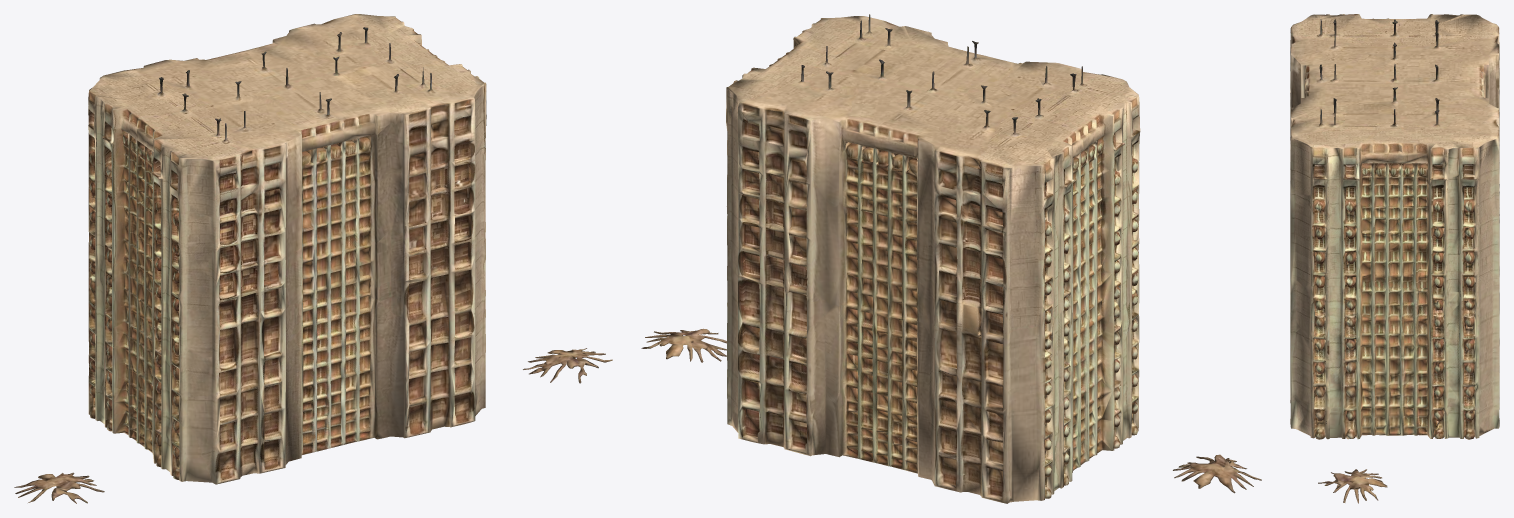
File: bceao.glb
3 renders of one model, left to right at view 1: azimuth 30°, elevation 25°; view 2: azimuth 150°, elevation 25°; view 3: azimuth 270°, elevation 25°, orthographic. The views are drawn at different scales.
Parts seen in each view (by area): view 1: tripo_node_1f12f64e-0354-4c01-a26d-bd178198b87c; view 2: tripo_node_1f12f64e-0354-4c01-a26d-bd178198b87c; view 3: tripo_node_1f12f64e-0354-4c01-a26d-bd178198b87c.
Part boxes in pixels (box(x1,y1,x2,y2)): tripo_node_1f12f64e-0354-4c01-a26d-bd178198b87c: box(14, 14, 612, 503); tripo_node_1f12f64e-0354-4c01-a26d-bd178198b87c: box(641, 14, 1261, 503); tripo_node_1f12f64e-0354-4c01-a26d-bd178198b87c: box(1290, 14, 1499, 503).
Size of the model in its own units: 0.999 by 0.5613 by 0.3435.
Materials: 1 (1 with a texture image).
